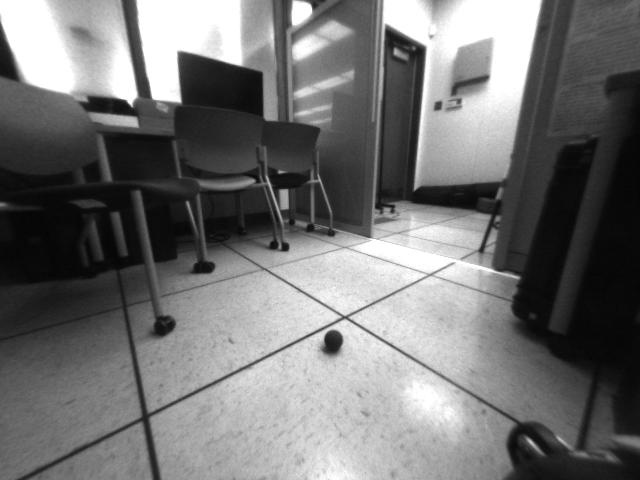dogtoy: (319, 326, 346, 360)
